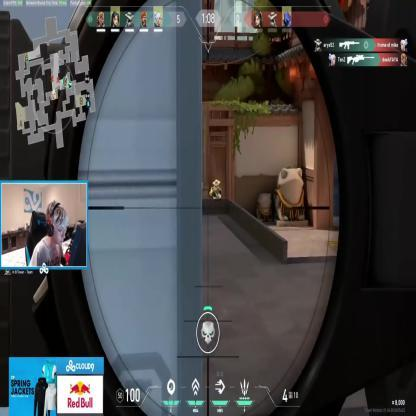enemy: (210, 178, 222, 224)
enemy_head: (212, 179, 220, 190)
